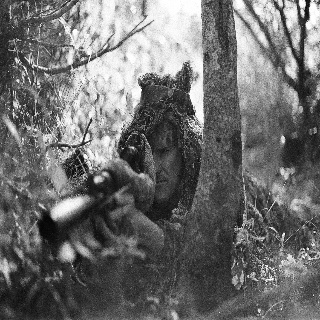rifle: (37, 130, 157, 250)
